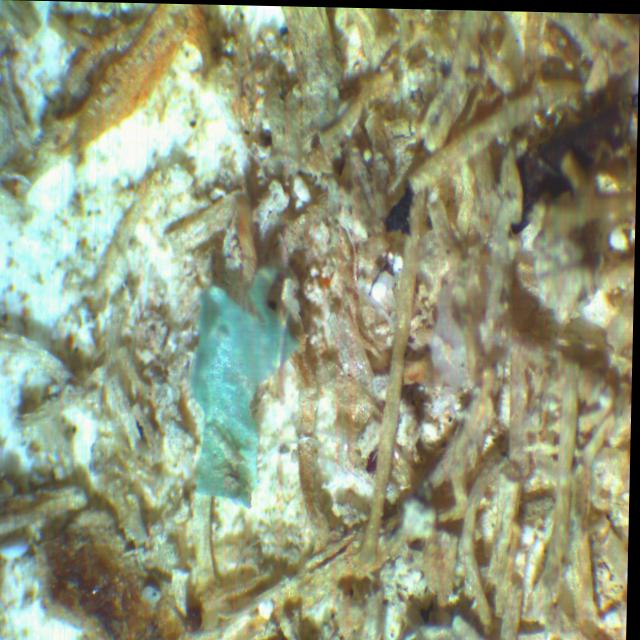microplastic: (186, 260, 308, 510)
